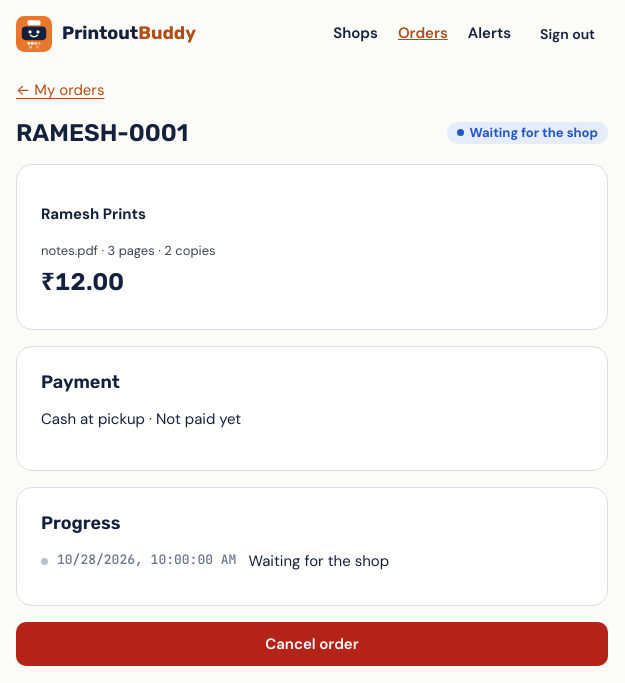
it: my orders › cancels a new order and shows a duplicate-reference error in words
Click the button "Cancel order" at (312, 644), box x1=16 y1=622 x2=608 y2=666
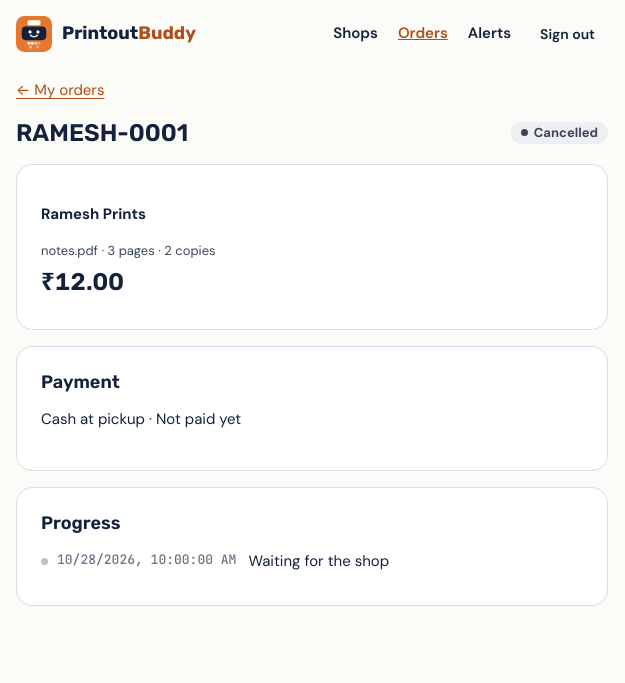
Result: the text "Cancelled" is shown at x1=511 y1=122 x2=608 y2=144
Result: the button "Cancel order" is gone
